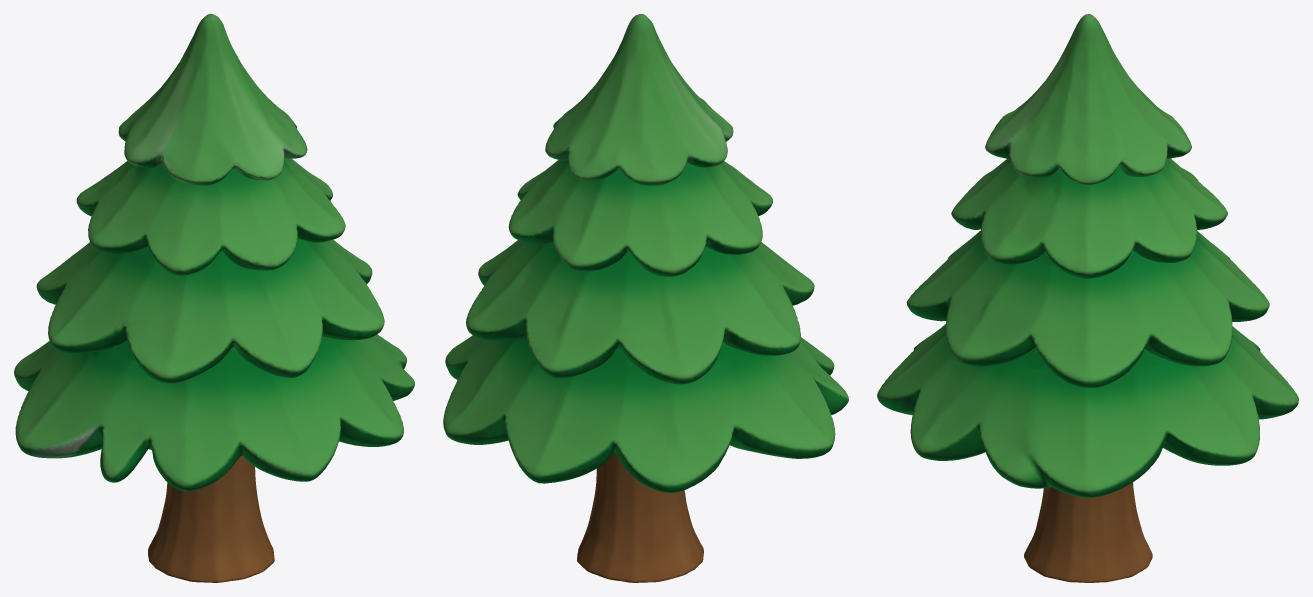
The model's file is tree.glb.
3 views of the same model, side by side, from view 1: azimuth 30°, elevation 25°; view 2: azimuth 150°, elevation 25°; view 3: azimuth 270°, elevation 25° (orthographic).
Parts seen in each view (by area): view 1: tmpkb71lmsm.ply; view 2: tmpkb71lmsm.ply; view 3: tmpkb71lmsm.ply.
Boxes of the visible parts, x1=… form: tmpkb71lmsm.ply: x1=14, y1=14, x2=414, y2=582; tmpkb71lmsm.ply: x1=443, y1=14, x2=848, y2=582; tmpkb71lmsm.ply: x1=877, y1=14, x2=1298, y2=582.
Size of the model in its own units: 1.44 by 1.96 by 1.38.
Materials: 1 (1 with a texture image).
